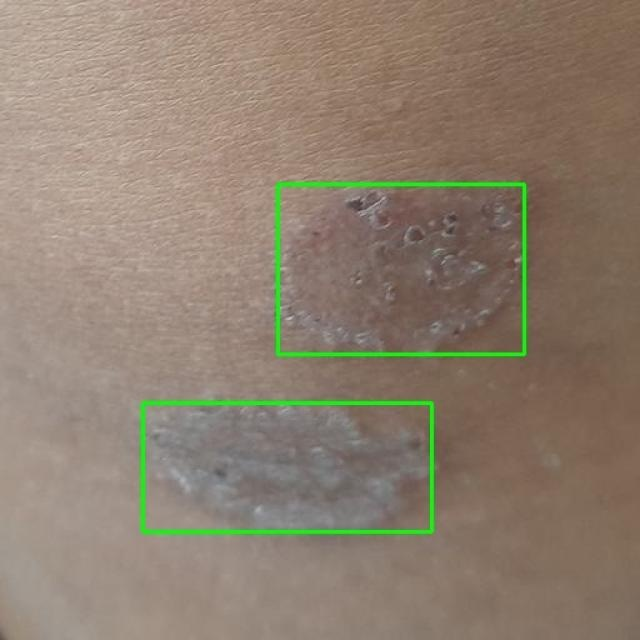Tinea Corporis: (278, 184, 524, 354), (142, 402, 431, 531)
